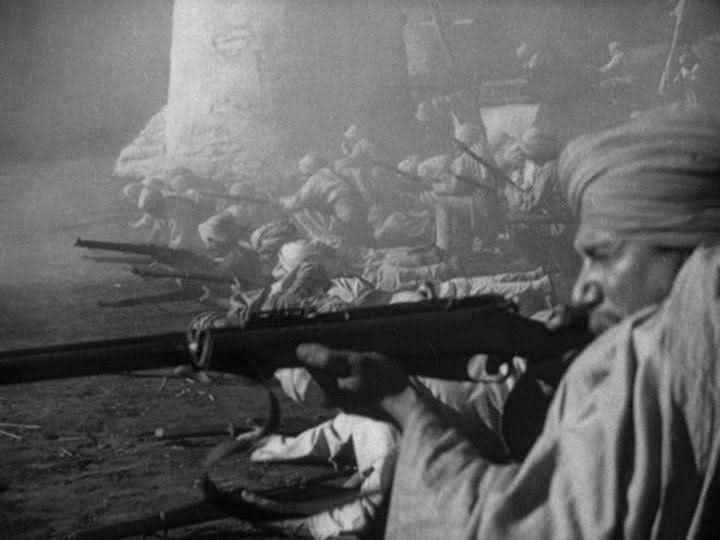gun: (14, 306, 543, 391), (456, 121, 541, 217), (67, 226, 219, 277), (120, 262, 260, 306), (186, 183, 291, 220), (356, 146, 445, 188)
